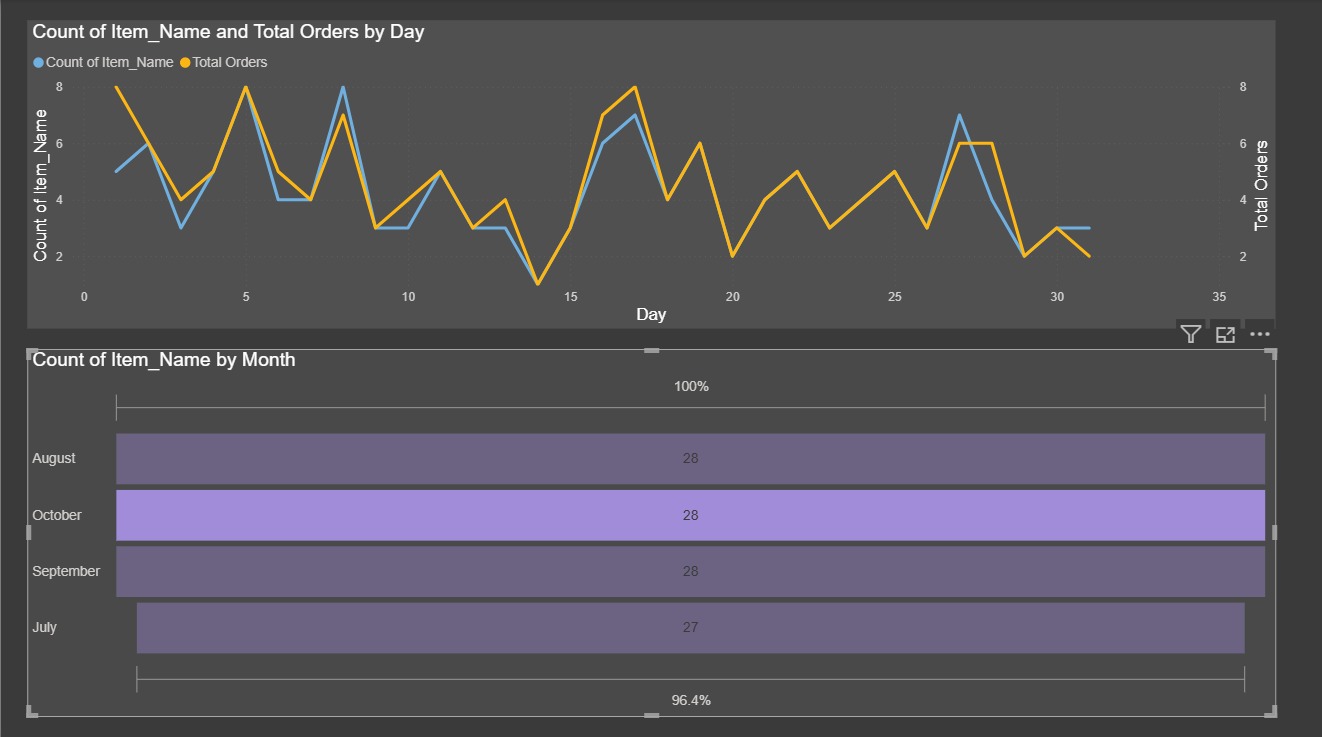

This screenshot's page, from the dashboard's own definition file:
{"tool":"powerbi","page":{"name":"Date wise report","canvas":[1280,720],"ordinal":4},"visuals":[{"type":"lineChart","fields":{"Category":["Customer_Billing.Date.Variation.Date Hierarchy.Day"],"Y":["CountNonNull(Item_Details.Item_Name)"],"Y2":["Customer_Billing.Total Orders"]},"box":[25,20,1205,297.5],"z":0},{"type":"funnel","fields":{"Category":["Customer_Billing.Month"],"Y":["CountNonNull(Item_Details.Item_Name)"]},"box":[25,337.5,1205,355],"z":1000}]}

Visuals, with their boxes in screenshot pixels (x1, y1, x2, y2), scaled from the page's 1280x720 canvas onto the 1322x737 screenshot:
lineChart - Customer_Billing.Date.Variation.Date Hierarchy.Day x CountNonNull(Item_Details.Item_Name): locate(26, 20, 1270, 325)
funnel - Customer_Billing.Month x CountNonNull(Item_Details.Item_Name): locate(26, 345, 1270, 709)
